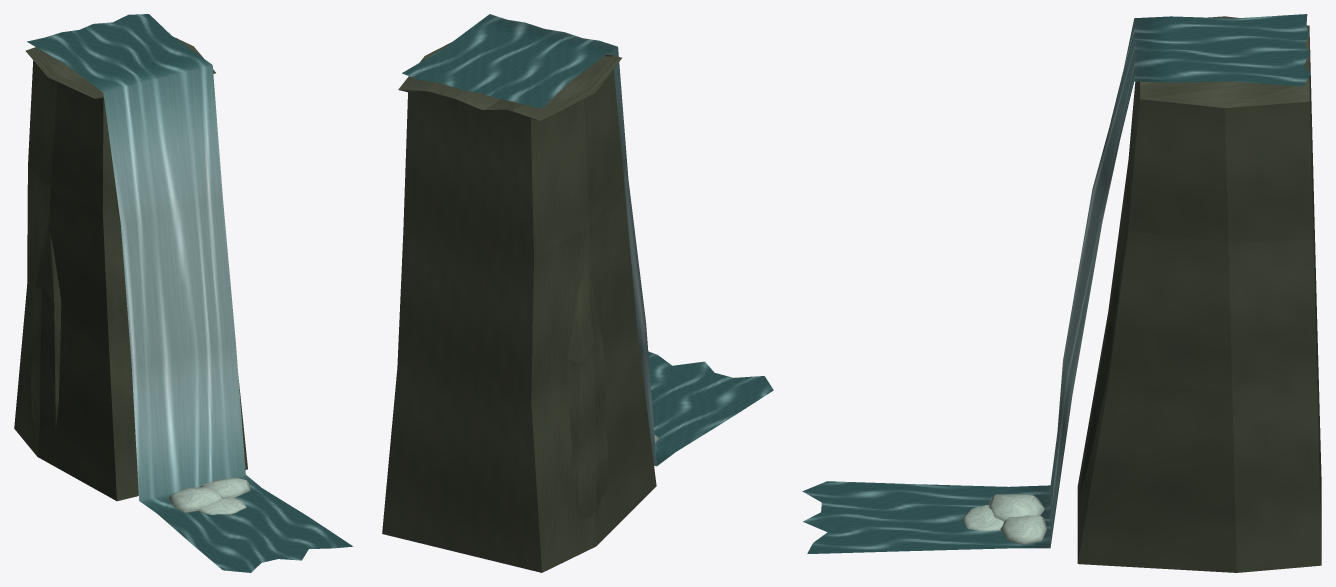
The model's file is fall-narrow-lod1.glb.
3 views of the same model, side by side, from view 1: azimuth 30°, elevation 25°; view 2: azimuth 150°, elevation 25°; view 3: azimuth 270°, elevation 25° (orthographic). The views are drawn at different scales.
Size of the model in its own units: 0.4302 by 1 by 0.9921.
1 material, 1 textured.
